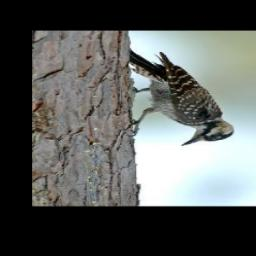Woodpecker: (117, 47, 237, 146)
